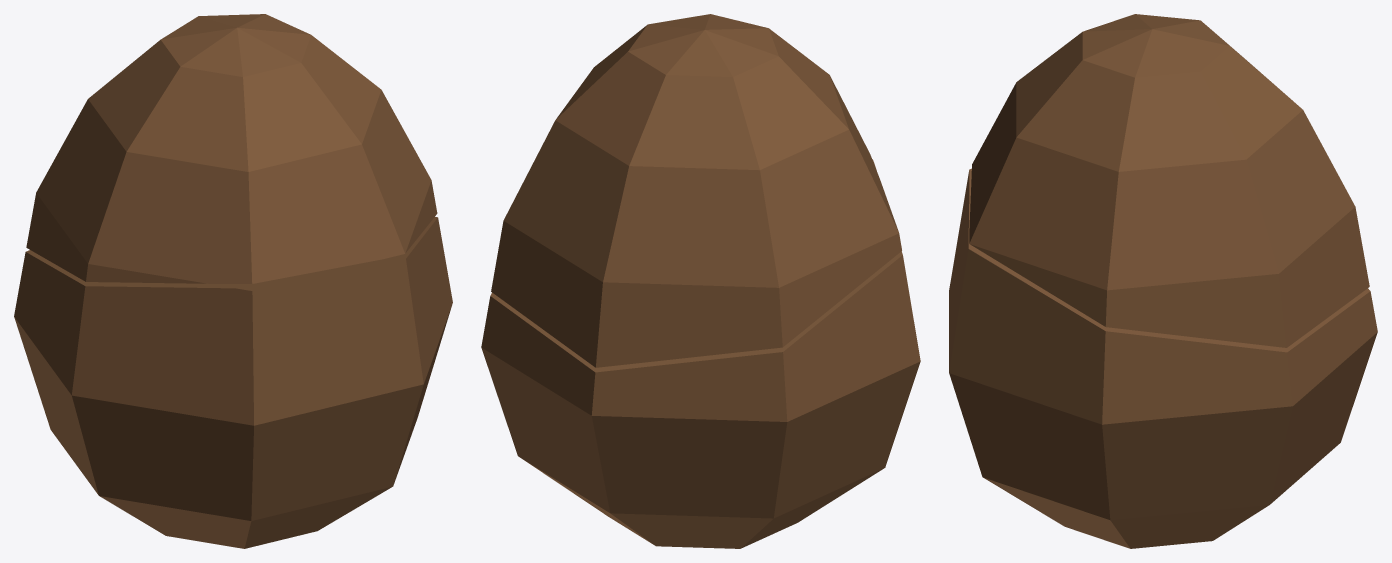
Rendered from CoconutBroken.fbx.
3 renders of one model, left to right at view 1: azimuth 30°, elevation 25°; view 2: azimuth 150°, elevation 25°; view 3: azimuth 270°, elevation 25°, orthographic.
Visible parts, largest first — view 1: CoconutDown, CoconutUp; view 2: CoconutUp, CoconutDown; view 3: CoconutUp, CoconutDown.
Boxes of the visible parts, x1=… form: CoconutDown: x1=14, y1=217, x2=452, y2=548; CoconutUp: x1=26, y1=14, x2=437, y2=283; CoconutUp: x1=491, y1=14, x2=901, y2=367; CoconutDown: x1=481, y1=159, x2=920, y2=548; CoconutUp: x1=969, y1=14, x2=1369, y2=347; CoconutDown: x1=949, y1=168, x2=1377, y2=548.
Bounding box in the file's own units: 20.54 × 25.4 × 20.03.
